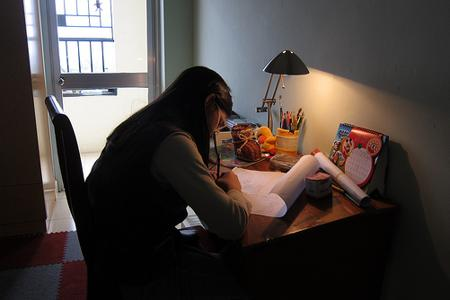person: (87, 66, 251, 270)
